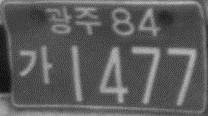1: (69, 42, 85, 103)
4: (98, 46, 128, 105), (138, 6, 162, 36)
7: (129, 43, 162, 106), (165, 46, 198, 106)
8: (110, 5, 134, 36)
가: (18, 43, 54, 86)
광주_O: (44, 5, 102, 36)
